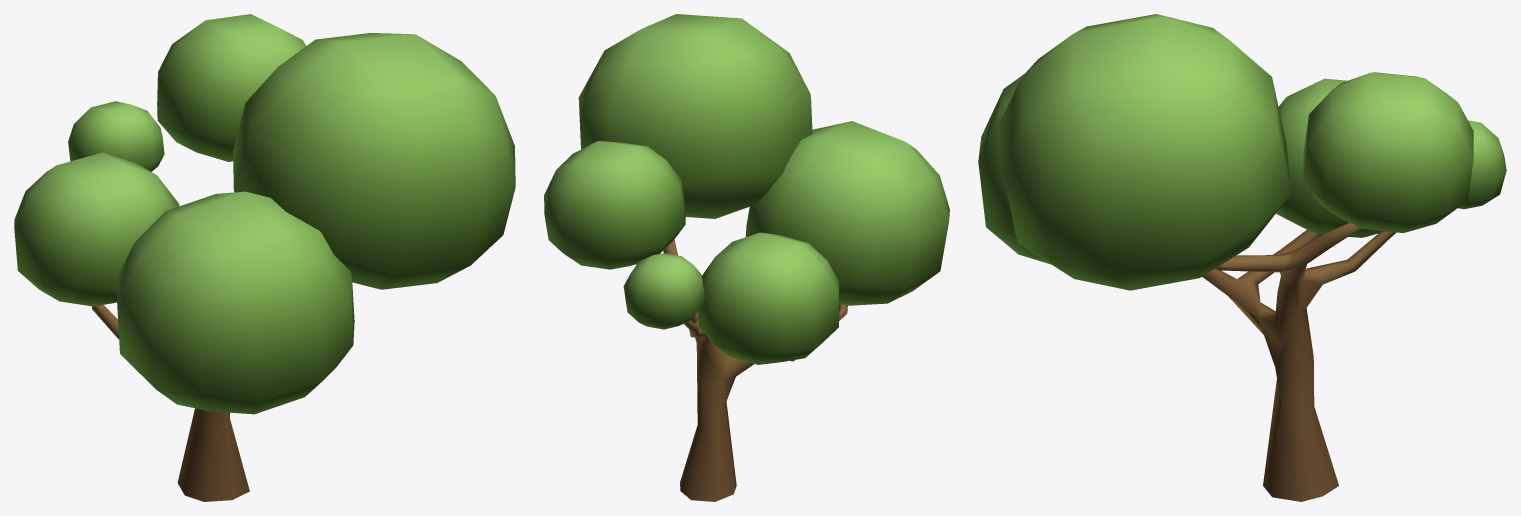
Rendered from pack03_foliage2_21.fbx.
3 views of the same model, side by side, from view 1: azimuth 30°, elevation 25°; view 2: azimuth 150°, elevation 25°; view 3: azimuth 270°, elevation 25° (orthographic). The views are drawn at different scales.
Parts seen in each view (by area): view 1: Tree.016; view 2: Tree.016; view 3: Tree.016.
Boxes of the visible parts, x1,y1,x2,y2 form: Tree.016: (14,14,515,501); Tree.016: (544,14,949,501); Tree.016: (978,14,1506,501).
Bounding box in the file's own units: 663 × 794 × 759.
Materials: 1 (1 with a texture image).
